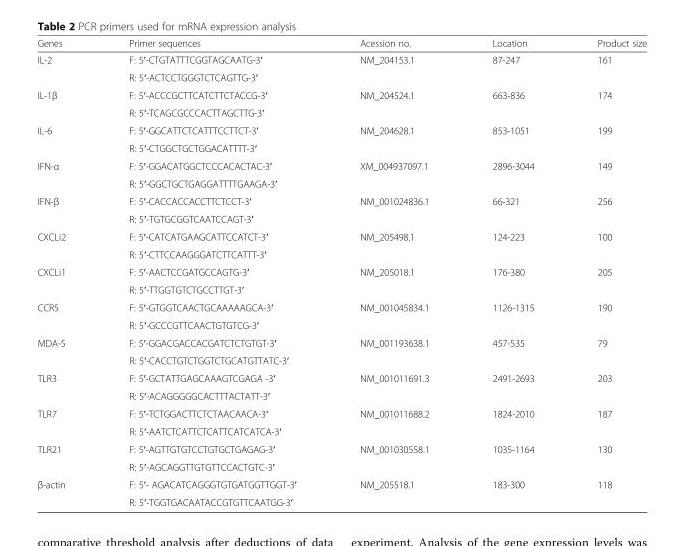table: (36, 37, 646, 507)
table column: (96, 37, 327, 507), (327, 37, 460, 507), (460, 37, 565, 507), (565, 37, 646, 507), (36, 37, 96, 507)
table column header: (36, 37, 646, 51)
table row: (36, 474, 646, 493), (36, 85, 646, 103), (36, 103, 646, 121), (36, 121, 646, 139), (36, 156, 646, 174), (36, 191, 646, 209), (36, 209, 646, 227), (36, 227, 646, 245), (36, 262, 646, 280), (36, 280, 646, 298), (36, 315, 646, 333), (36, 333, 646, 351), (36, 351, 646, 369), (36, 386, 646, 404), (36, 404, 646, 422), (36, 439, 646, 457), (36, 51, 646, 68), (36, 68, 646, 85), (36, 139, 646, 156), (36, 174, 646, 191), (36, 245, 646, 262), (36, 298, 646, 315), (36, 369, 646, 386), (36, 422, 646, 439), (36, 457, 646, 474), (36, 37, 646, 51), (36, 493, 646, 507)
table spanning cell: (327, 85, 460, 121), (327, 191, 460, 227), (327, 262, 460, 298), (327, 333, 460, 369), (327, 121, 460, 156), (327, 156, 460, 191), (327, 227, 460, 262), (327, 298, 460, 333), (327, 369, 460, 404), (327, 404, 460, 439), (327, 439, 460, 474), (327, 51, 460, 85), (327, 474, 460, 507), (460, 85, 565, 121), (460, 191, 565, 227), (460, 262, 565, 298), (460, 333, 565, 369), (460, 121, 565, 156), (460, 156, 565, 191), (460, 227, 565, 262), (460, 298, 565, 333), (460, 369, 565, 404), (460, 404, 565, 439), (460, 439, 565, 474), (460, 51, 565, 85), (460, 474, 565, 507), (565, 85, 646, 121), (565, 191, 646, 227), (565, 262, 646, 298), (565, 333, 646, 369), (565, 121, 646, 156), (565, 156, 646, 191), (565, 227, 646, 262), (565, 298, 646, 333), (565, 369, 646, 404), (565, 404, 646, 439), (565, 439, 646, 474), (565, 51, 646, 85), (565, 474, 646, 507), (36, 85, 96, 121), (36, 191, 96, 227), (36, 262, 96, 298), (36, 333, 96, 369), (36, 121, 96, 156), (36, 156, 96, 191), (36, 227, 96, 262), (36, 298, 96, 333), (36, 369, 96, 404), (36, 404, 96, 439), (36, 439, 96, 474), (36, 51, 96, 85), (36, 474, 96, 507)
